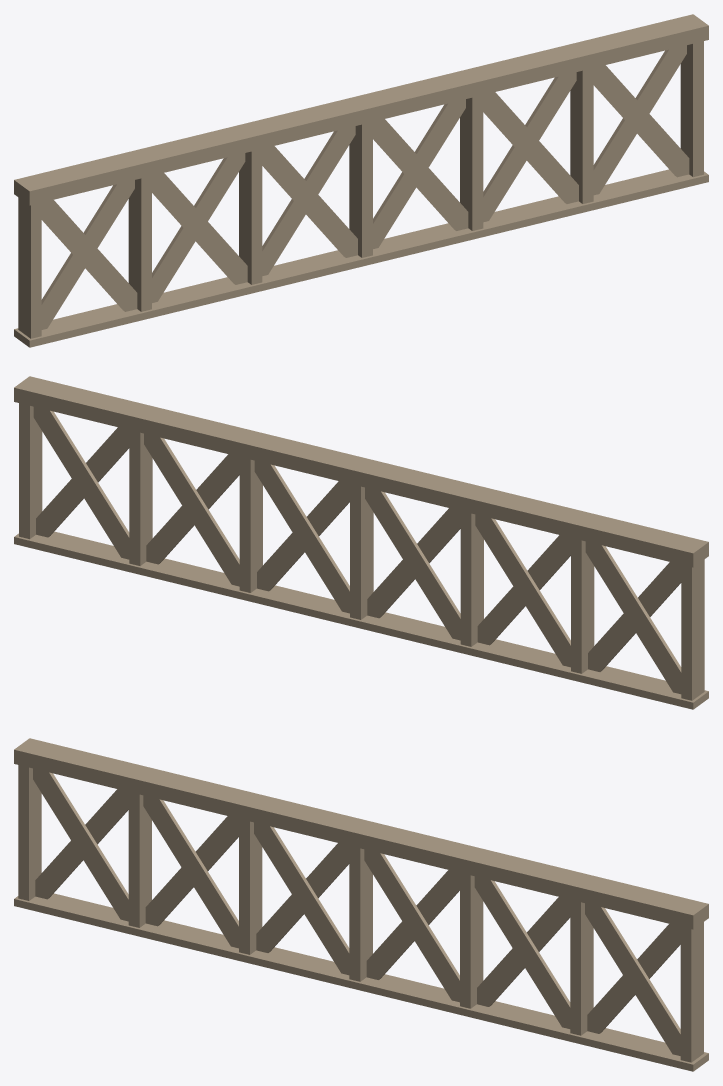
File: 702_fence.glb
3 views of the same model, one above another, from view 1: azimuth 30°, elevation 25°; view 2: azimuth 150°, elevation 25°; view 3: azimuth 330°, elevation 25° (orthographic).
Parts seen in each view (by area): view 1: Body; view 2: Body; view 3: Body.
Part boxes in pixels (left/top/right/bottom): Body: left=14, top=14, right=708, bottom=347; Body: left=14, top=376, right=708, bottom=709; Body: left=14, top=738, right=708, bottom=1071.
Size of the model in its own units: 5 by 1.1 by 0.2.
